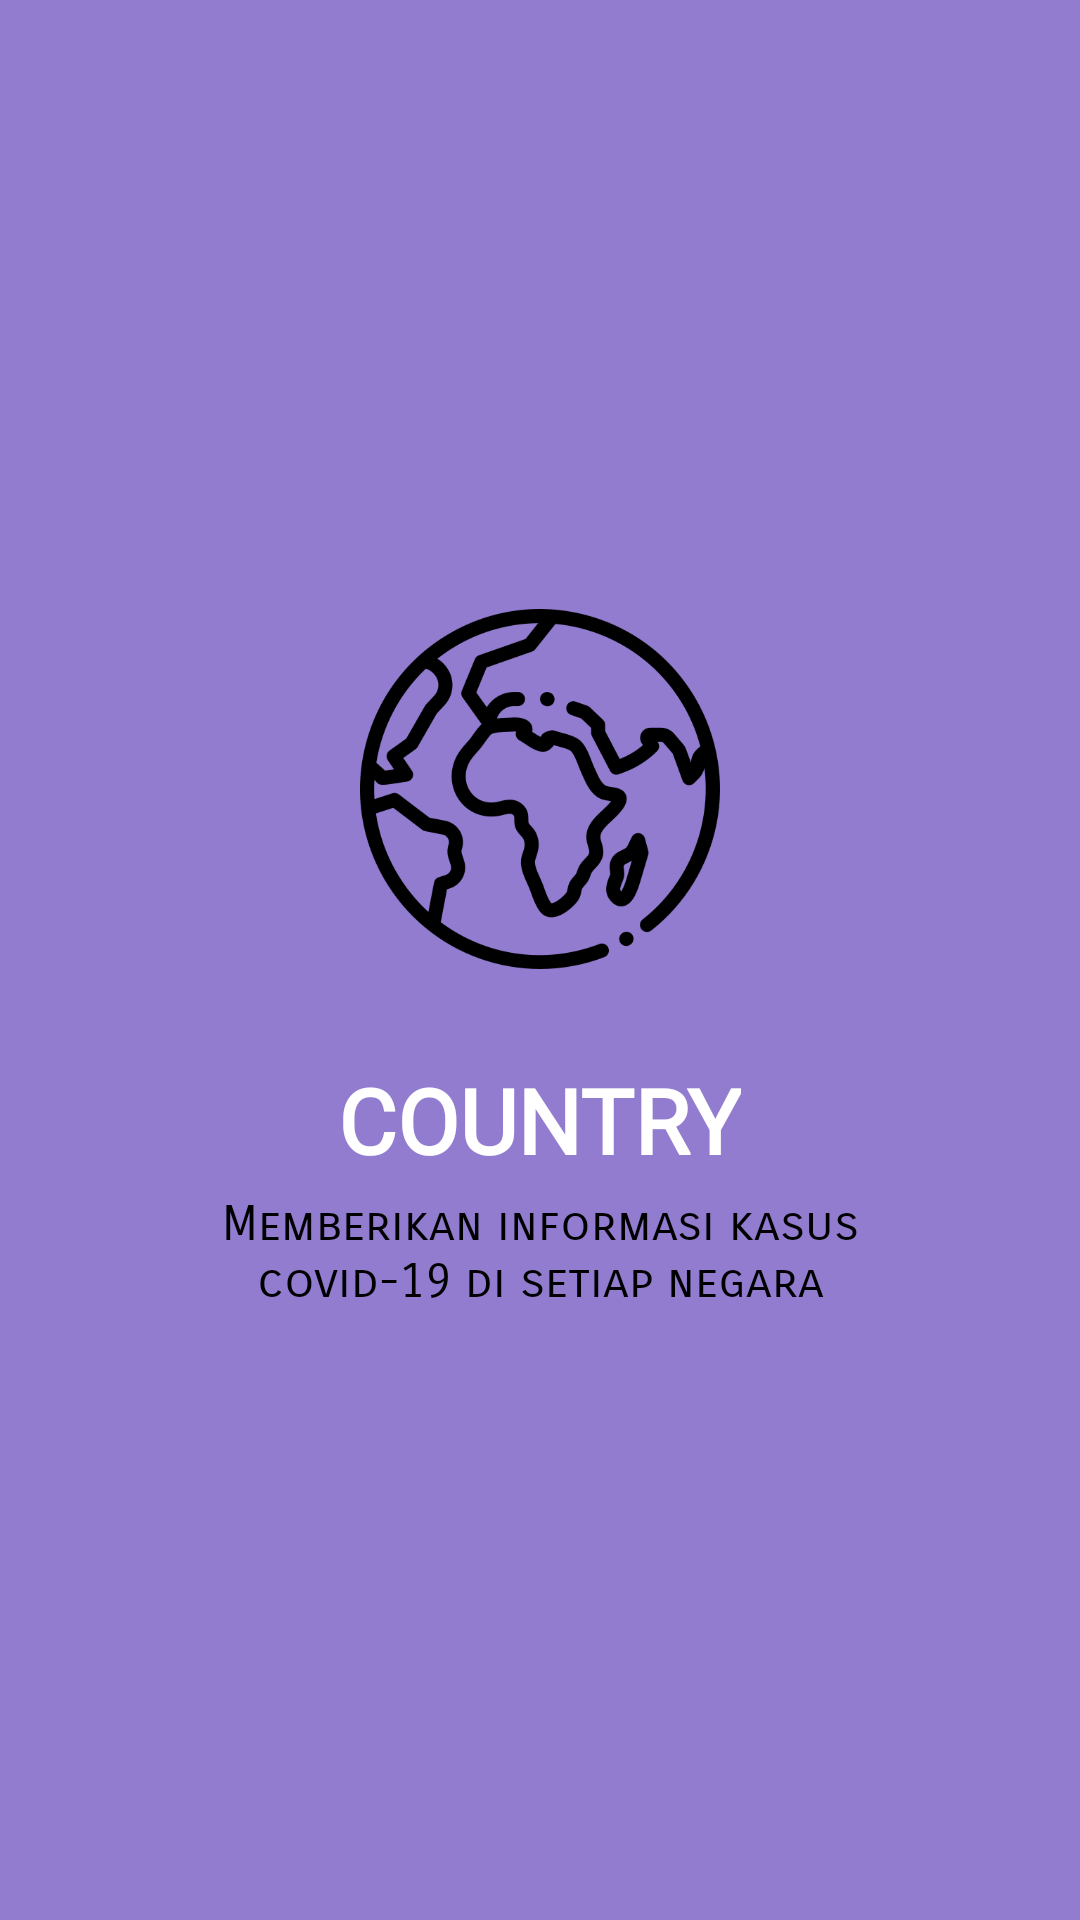

Icons on this 1080w x 1920h Android screen, each with its box as region(x1, y1, x2, y2):
planetearth: region(360, 609, 720, 969)
